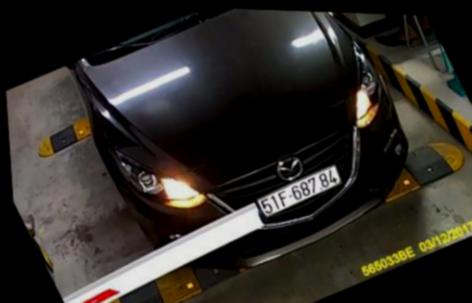License_Plate: (241, 162, 352, 230)
